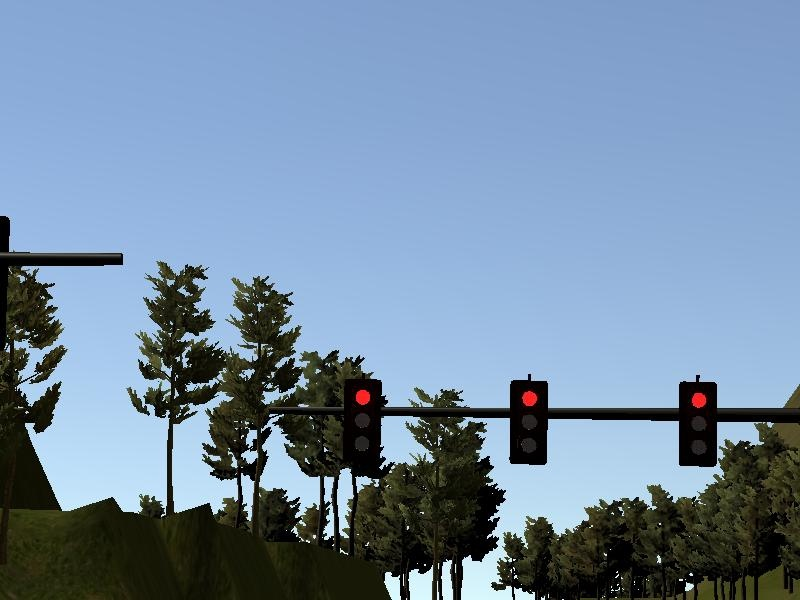red: (676, 377, 720, 472), (508, 375, 551, 467), (341, 375, 383, 469)
